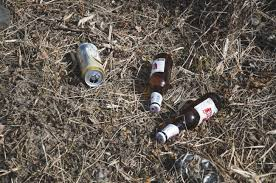bottle: (158, 93, 223, 144), (138, 52, 179, 111)
can: (71, 40, 112, 88)
